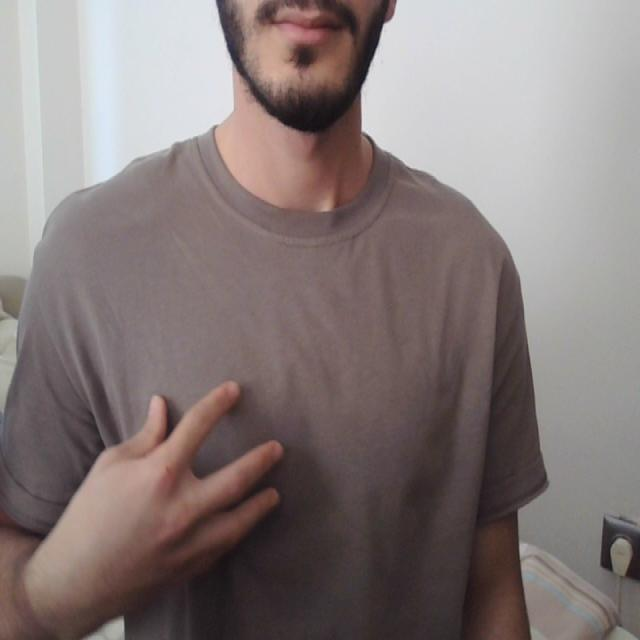Anne: (72, 366, 468, 616)
